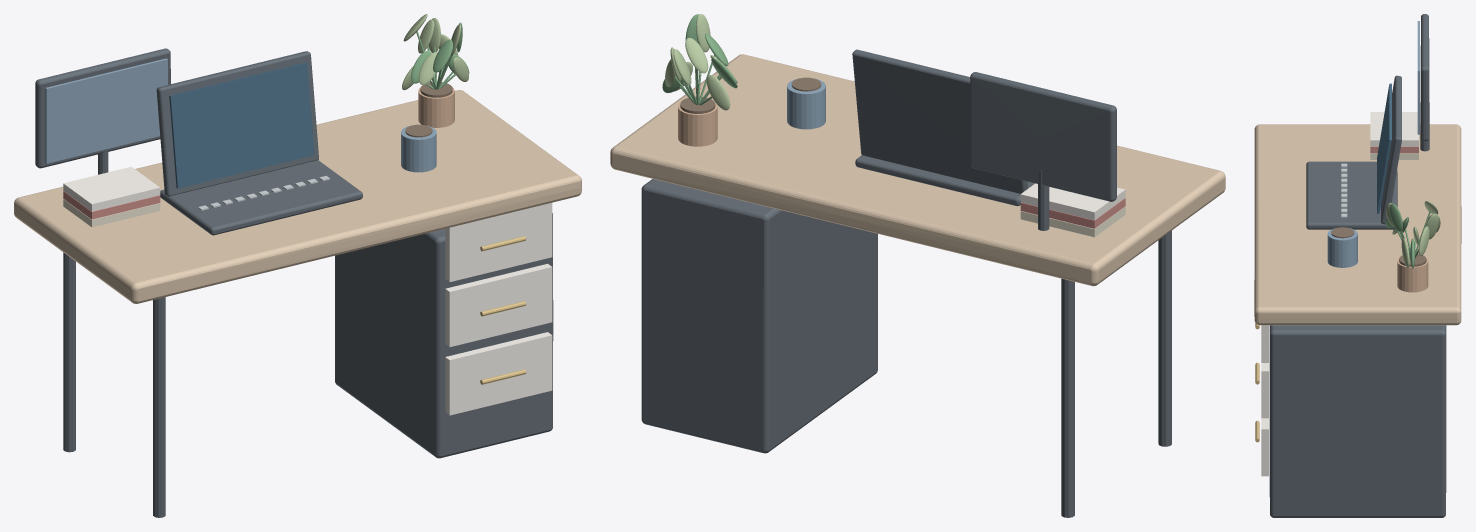
3 views of the same model, side by side, from view 1: azimuth 30°, elevation 25°; view 2: azimuth 150°, elevation 25°; view 3: azimuth 270°, elevation 25° (orthographic). The views are drawn at different scales.
Visible parts, largest first — view 1: desktop_1, drawer_pedestal_2, laptop_screen_13, second_monitor_screen_54, laptop_keyboard_11, desk_drawer_3, desk_drawer_5, desk_drawer_7, laptop_lid_12, rod_10, second_monitor_frame_53, notebook_58 (+5 smaller); view 2: drawer_pedestal_2, desktop_1, second_monitor_frame_53, laptop_lid_12, rod_9, rod_10, laptop_keyboard_11, notebook_58, coffee_mug_25, terracotta_pot_27, notebook_56, notebook_57; view 3: drawer_pedestal_2, desktop_1, laptop_keyboard_11, laptop_lid_12, second_monitor_frame_53, laptop_screen_13, notebook_58, coffee_mug_25, terracotta_pot_27, desk_drawer_3, desk_drawer_5, second_monitor_screen_54 (+2 smaller).
Part boxes in pixels (<box>): desktop_1: <box>14,90,581,303</box>; drawer_pedestal_2: <box>335,213,553,458</box>; laptop_screen_13: <box>169,62,314,188</box>; second_monitor_screen_54: <box>45,58,167,163</box>; laptop_keyboard_11: <box>160,160,362,235</box>; desk_drawer_3: <box>445,332,552,415</box>; desk_drawer_5: <box>445,263,552,346</box>; desk_drawer_7: <box>445,203,552,281</box>; laptop_lid_12: <box>156,51,318,196</box>; rod_10: <box>153,297,165,517</box>; second_monitor_frame_53: <box>35,48,170,168</box>; notebook_58: <box>63,166,160,211</box>; drawer_pedestal_2: <box>641,179,877,453</box>; desktop_1: <box>610,54,1225,286</box>; second_monitor_frame_53: <box>970,72,1116,201</box>; laptop_lid_12: <box>852,49,1027,193</box>; rod_9: <box>1061,278,1074,517</box>; rod_10: <box>1158,230,1171,446</box>; laptop_keyboard_11: <box>855,155,1034,206</box>; notebook_58: <box>1020,183,1125,220</box>; coffee_mug_25: <box>787,78,825,129</box>; terracotta_pot_27: <box>678,103,717,146</box>; notebook_56: <box>1020,206,1125,237</box>; notebook_57: <box>1020,198,1125,228</box>; drawer_pedestal_2: <box>1269,325,1446,517</box>; desktop_1: <box>1254,124,1461,325</box>; laptop_keyboard_11: <box>1306,161,1397,229</box>; laptop_lid_12: <box>1381,75,1401,224</box>; second_monitor_frame_53: <box>1420,14,1429,141</box>; laptop_screen_13: <box>1377,83,1391,213</box>; notebook_58: <box>1370,112,1418,146</box>; coffee_mug_25: <box>1327,228,1357,267</box>; terracotta_pot_27: <box>1397,258,1428,292</box>; desk_drawer_3: <box>1261,418,1268,476</box>; desk_drawer_5: <box>1261,363,1268,418</box>; second_monitor_screen_54: <box>1417,21,1419,134</box>.
Size of the model in its own units: 1.45 by 1.19 by 0.68.
